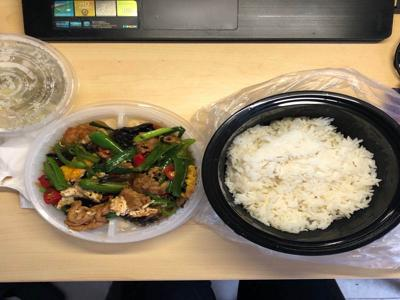rice: (234, 113, 379, 234)
